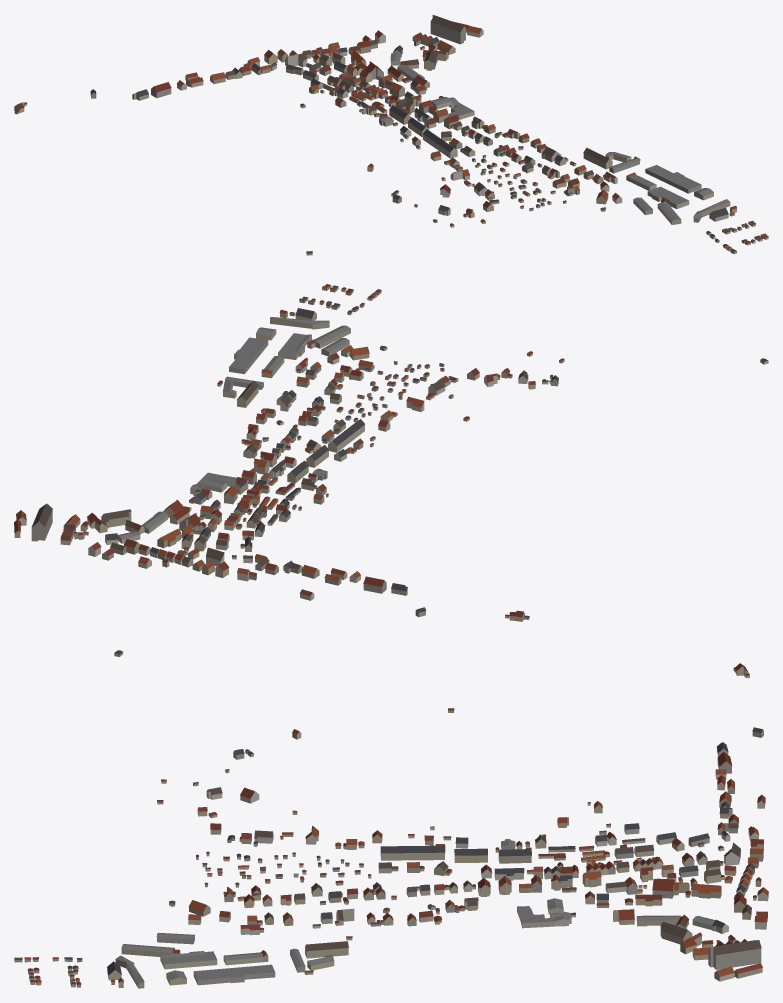
The picture shows the model from 3 angles, top to bottom: view 1: azimuth 30°, elevation 25°; view 2: azimuth 150°, elevation 25°; view 3: azimuth 270°, elevation 25°; orthographic projection. The views are drawn at different scales.
Visible parts, largest first — view 1: buildings; view 2: buildings; view 3: buildings.
Part boxes in pixels (x1,y1,x2,y2): buildings: (14, 15, 768, 255); buildings: (14, 284, 768, 621); buildings: (14, 650, 768, 988).
Size of the model in its own units: 714 by 119 by 805.
